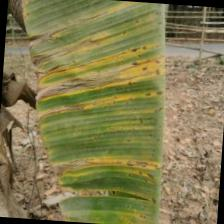pestalotiopsis: (8, 0, 175, 224)
